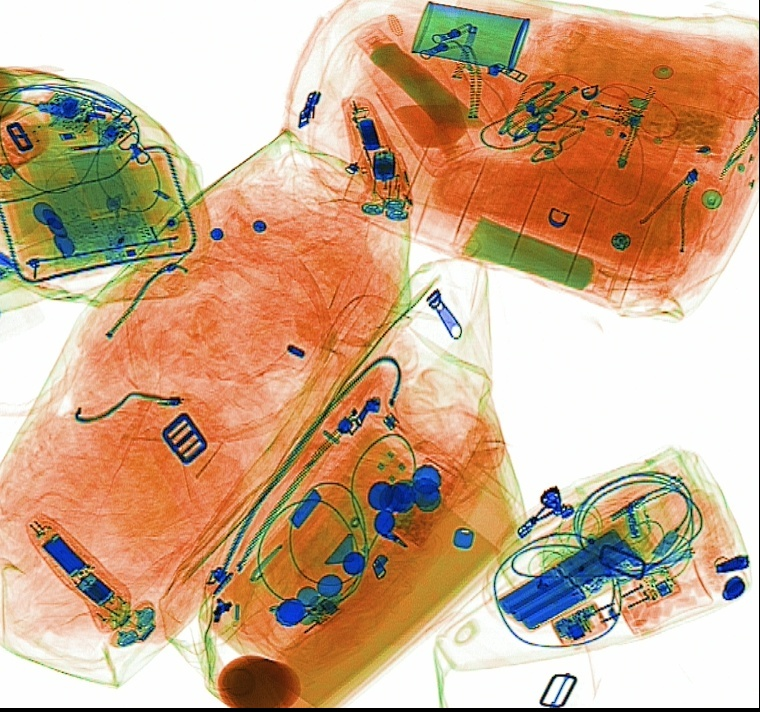powerbank: (495, 503, 662, 632)
